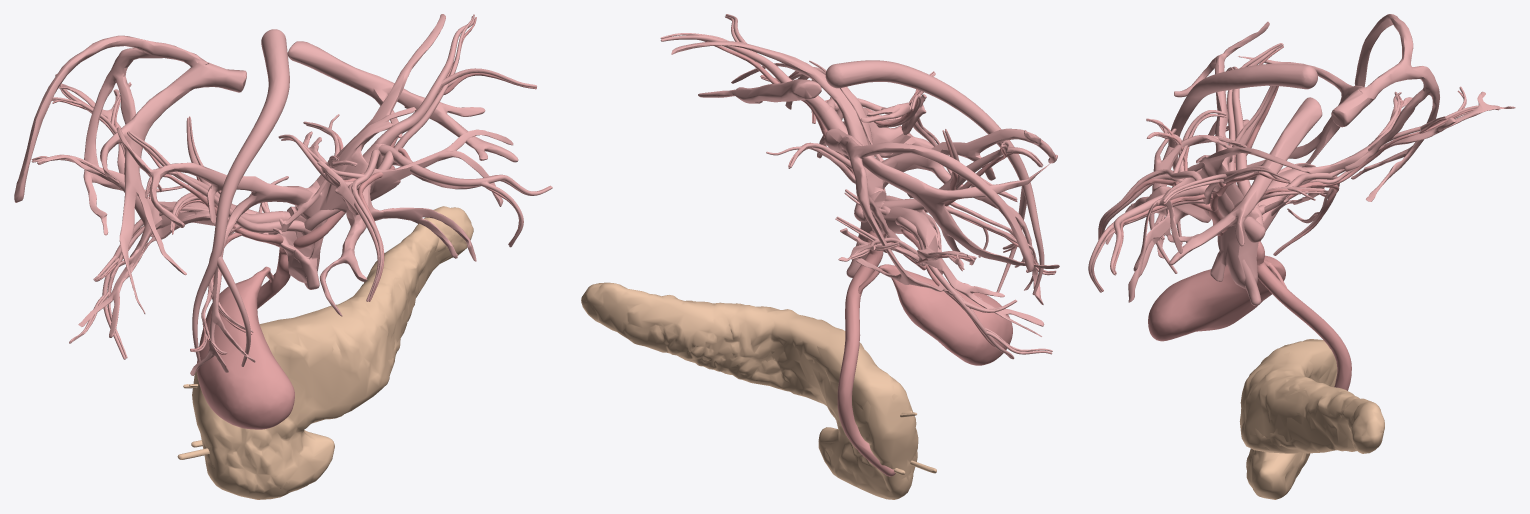
Rendered from digestive-hepatobiliary.v1.glb.
3 renders of one model, left to right at view 1: azimuth 30°, elevation 25°; view 2: azimuth 150°, elevation 25°; view 3: azimuth 270°, elevation 25°, orthographic. The views are drawn at different scales.
Visible parts, largest first — view 1: pancreas, left_portal_vein, right_hepatic_vein, parenchyma_of_pancreas, gallbladder, anterior_inferior_segmental_tributary_of_middle_hepatic_vein, right_portal_vein, left_hepatic_vein, lateral_superior_segmental_branch_of_left_portal_vein, lateral_inferior_segmental_branch_of_left_portal_vein, anterior_superior_segmental_hepatic_artery, medial_inferior_segmental_hepatic_artery (+10 smaller); view 2: pancreas, parenchyma_of_pancreas, right_hepatic_vein, left_portal_vein, gallbladder, anterior_inferior_segmental_tributary_of_middle_hepatic_vein, right_portal_vein, common_hepatic_duct, left_hepatic_vein, lateral_superior_segmental_branch_of_left_portal_vein, anterior_inferior_segmental_branch_of_right_portal_vein, posterior_inferior_segmental_branch_of_right_portal_vein (+6 smaller); view 3: pancreas, left_portal_vein, right_hepatic_vein, parenchyma_of_pancreas, gallbladder, anterior_inferior_segmental_tributary_of_middle_hepatic_vein, left_hepatic_vein, right_portal_vein, common_hepatic_duct, lateral_inferior_segmental_branch_of_left_portal_vein, anterior_superior_segmental_branch_of_right_portal_vein, lateral_superior_segmental_hepatic_artery (+11 smaller).
Part boxes in pixels (<box>): pancreas: <box>192,206,473,499</box>; left_portal_vein: <box>116,14,536,375</box>; right_hepatic_vein: <box>14,35,246,313</box>; parenchyma_of_pancreas: <box>197,207,471,499</box>; gallbladder: <box>197,266,294,429</box>; anterior_inferior_segmental_tributary_of_middle_hepatic_vein: <box>192,29,289,366</box>; right_portal_vein: <box>31,74,296,351</box>; left_hepatic_vein: <box>287,41,518,162</box>; lateral_superior_segmental_branch_of_left_portal_vein: <box>374,16,536,145</box>; lateral_inferior_segmental_branch_of_left_portal_vein: <box>378,144,552,247</box>; anterior_superior_segmental_hepatic_artery: <box>128,131,304,232</box>; medial_inferior_segmental_hepatic_artery: <box>351,149,382,298</box>; pancreas: <box>581,282,918,499</box>; parenchyma_of_pancreas: <box>584,282,917,499</box>; right_hepatic_vein: <box>824,128,1059,295</box>; left_portal_vein: <box>671,14,1057,304</box>; gallbladder: <box>879,264,1012,365</box>; anterior_inferior_segmental_tributary_of_middle_hepatic_vein: <box>825,60,1044,294</box>; right_portal_vein: <box>836,130,1054,354</box>; common_hepatic_duct: <box>837,231,895,476</box>; left_hepatic_vein: <box>698,79,821,103</box>; lateral_superior_segmental_branch_of_left_portal_vein: <box>660,14,830,118</box>; anterior_inferior_segmental_branch_of_right_portal_vein: <box>945,130,1054,275</box>; posterior_inferior_segmental_branch_of_right_portal_vein: <box>881,206,1014,359</box>; pancreas: <box>1240,339,1384,499</box>; left_portal_vein: <box>1089,21,1311,302</box>; right_hepatic_vein: <box>1238,14,1439,201</box>; parenchyma_of_pancreas: <box>1240,340,1384,495</box>; gallbladder: <box>1148,255,1285,341</box>; anterior_inferior_segmental_tributary_of_middle_hepatic_vein: <box>1149,63,1317,273</box>; left_hepatic_vein: <box>1167,97,1322,265</box>; right_portal_vein: <box>1162,86,1515,241</box>; common_hepatic_duct: <box>1256,241,1351,390</box>; lateral_inferior_segmental_branch_of_left_portal_vein: <box>1088,184,1208,292</box>; anterior_superior_segmental_branch_of_right_portal_vein: <box>1232,43,1283,239</box>; lateral_superior_segmental_hepatic_artery: <box>1091,168,1290,291</box>.
Size of the model in its own units: 0.181 by 0.1679 by 0.1499.
